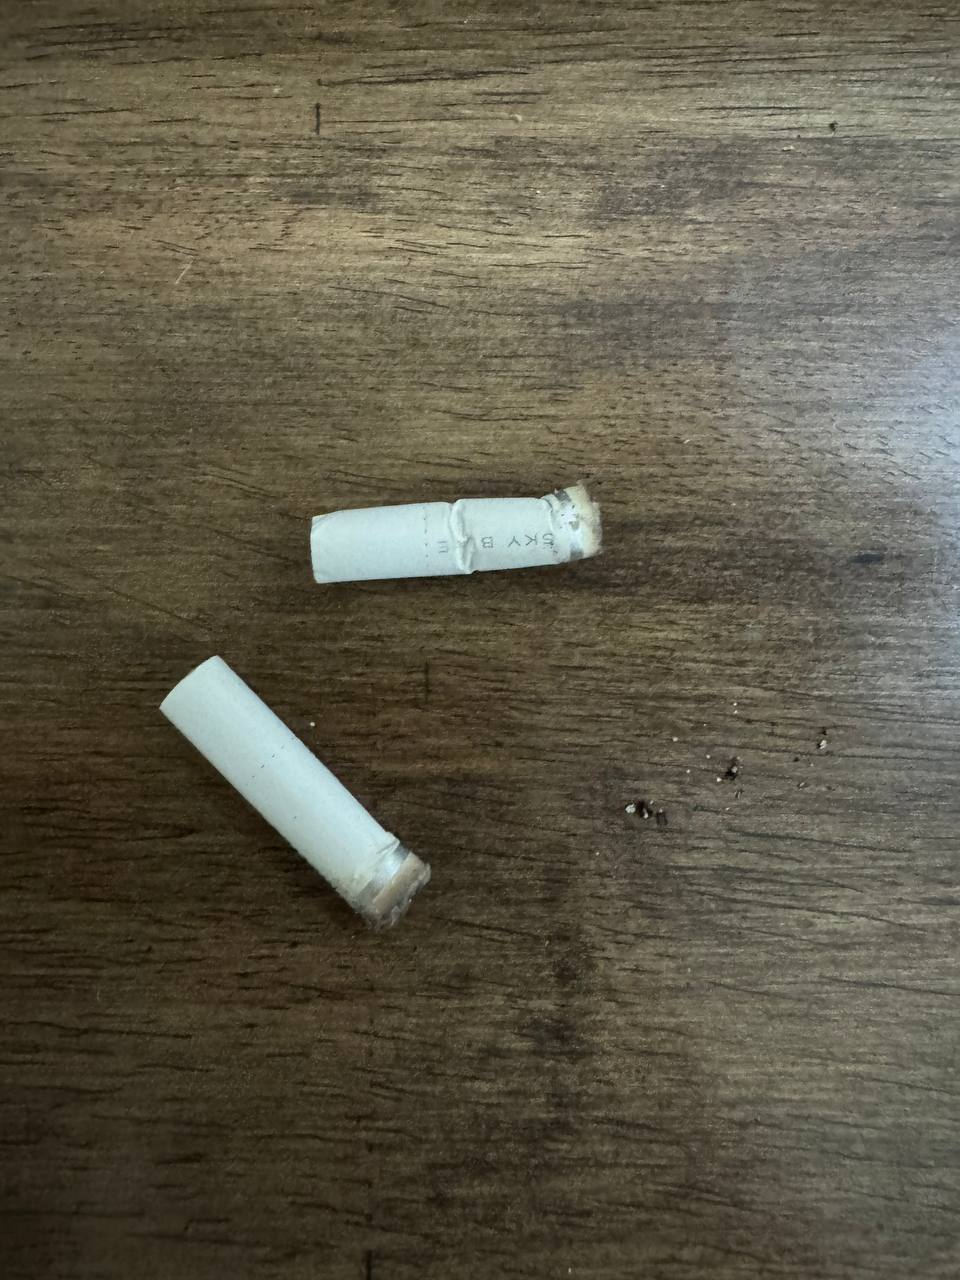trash: (156, 648, 447, 939), (297, 464, 626, 610)
